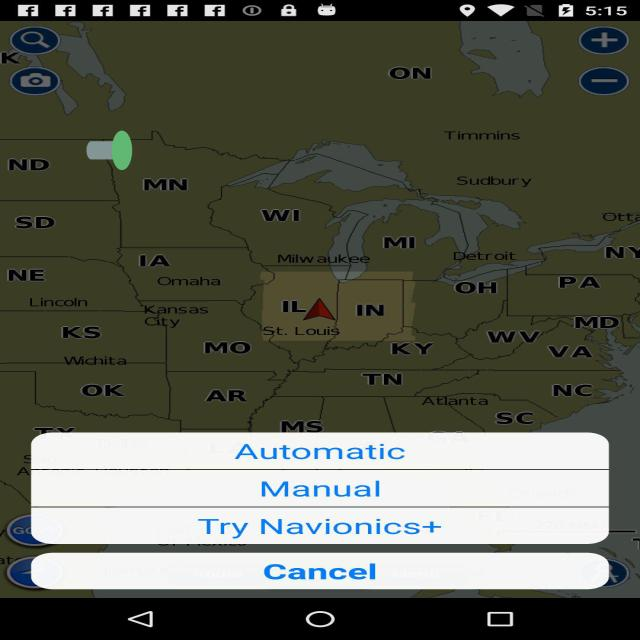social proof: (87, 106, 132, 195)
